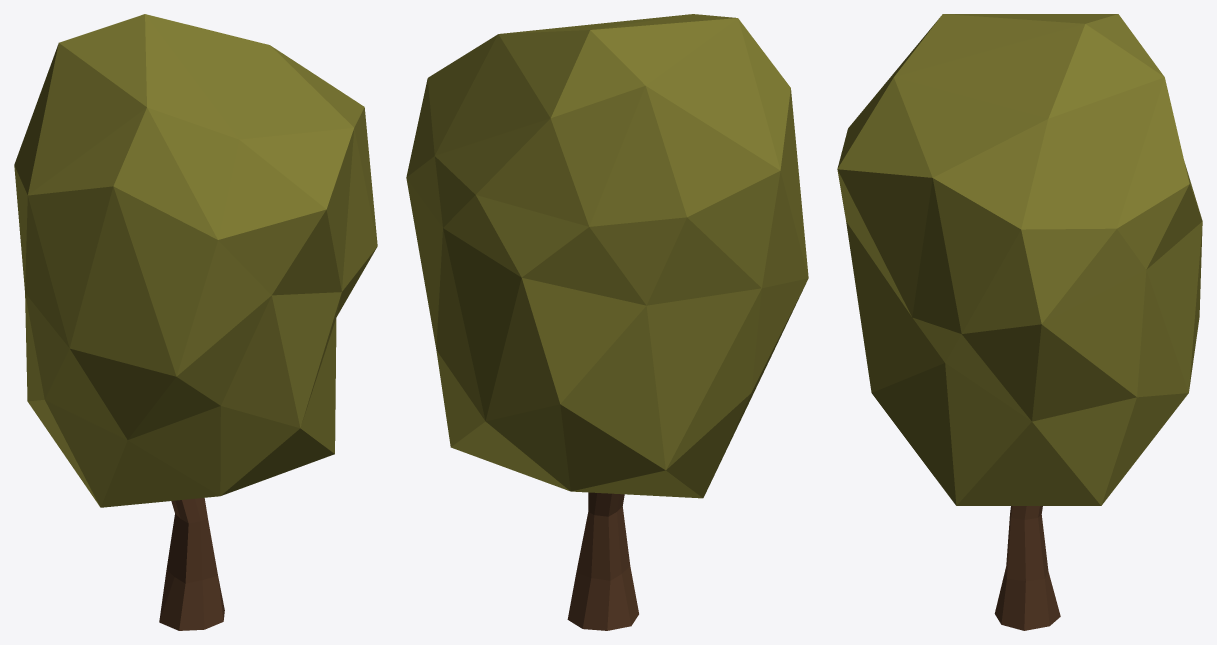
The model's file is Tree_43_Yellow.fbx.
3 renders of one model, left to right at view 1: azimuth 30°, elevation 25°; view 2: azimuth 150°, elevation 25°; view 3: azimuth 270°, elevation 25°, orthographic. The views are drawn at different scales.
Parts seen in each view (by area): view 1: Tree_43_Yellow_Part_1, Tree_43_Yellow_Part_2; view 2: Tree_43_Yellow_Part_1, Tree_43_Yellow_Part_2; view 3: Tree_43_Yellow_Part_1, Tree_43_Yellow_Part_2.
Boxes of the visible parts, x1=… form: Tree_43_Yellow_Part_1: x1=14, y1=14, x2=377, y2=507; Tree_43_Yellow_Part_2: x1=159, y1=498, x2=224, y2=630; Tree_43_Yellow_Part_1: x1=406, y1=14, x2=808, y2=498; Tree_43_Yellow_Part_2: x1=567, y1=492, x2=638, y2=630; Tree_43_Yellow_Part_1: x1=837, y1=14, x2=1202, y2=505; Tree_43_Yellow_Part_2: x1=994, y1=506, x2=1060, y2=630.
Bounding box in the file's own units: 500 × 807 × 458.
